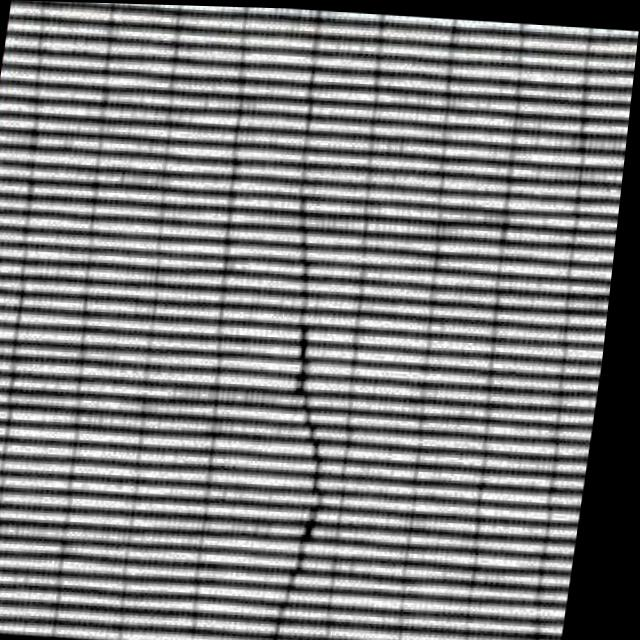Stitch: (234, 244, 394, 640)
